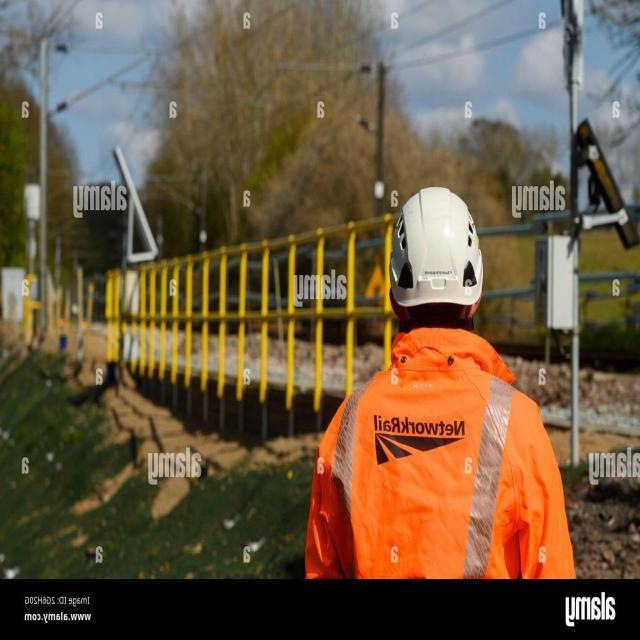Reflective-Jacket: (303, 342, 568, 579)
Safety-Helmet: (376, 180, 488, 318)
